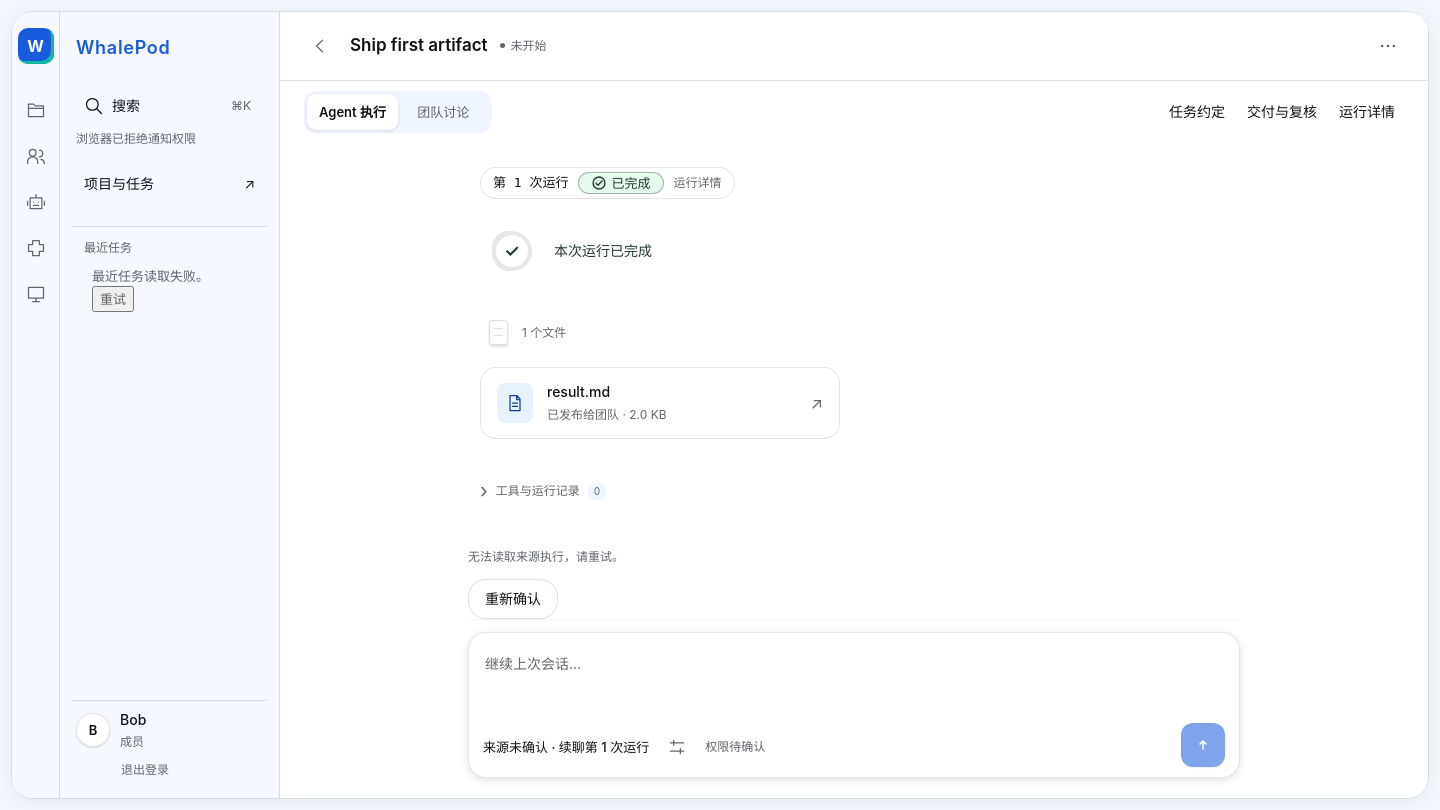
工作区 Micro 精修 › 交付物使用文件图标与独立状态层次，保留原详情入口
Click the button with aria-label "查看交付物 result.md" at coordinates (515, 403), box [480,367,840,439]
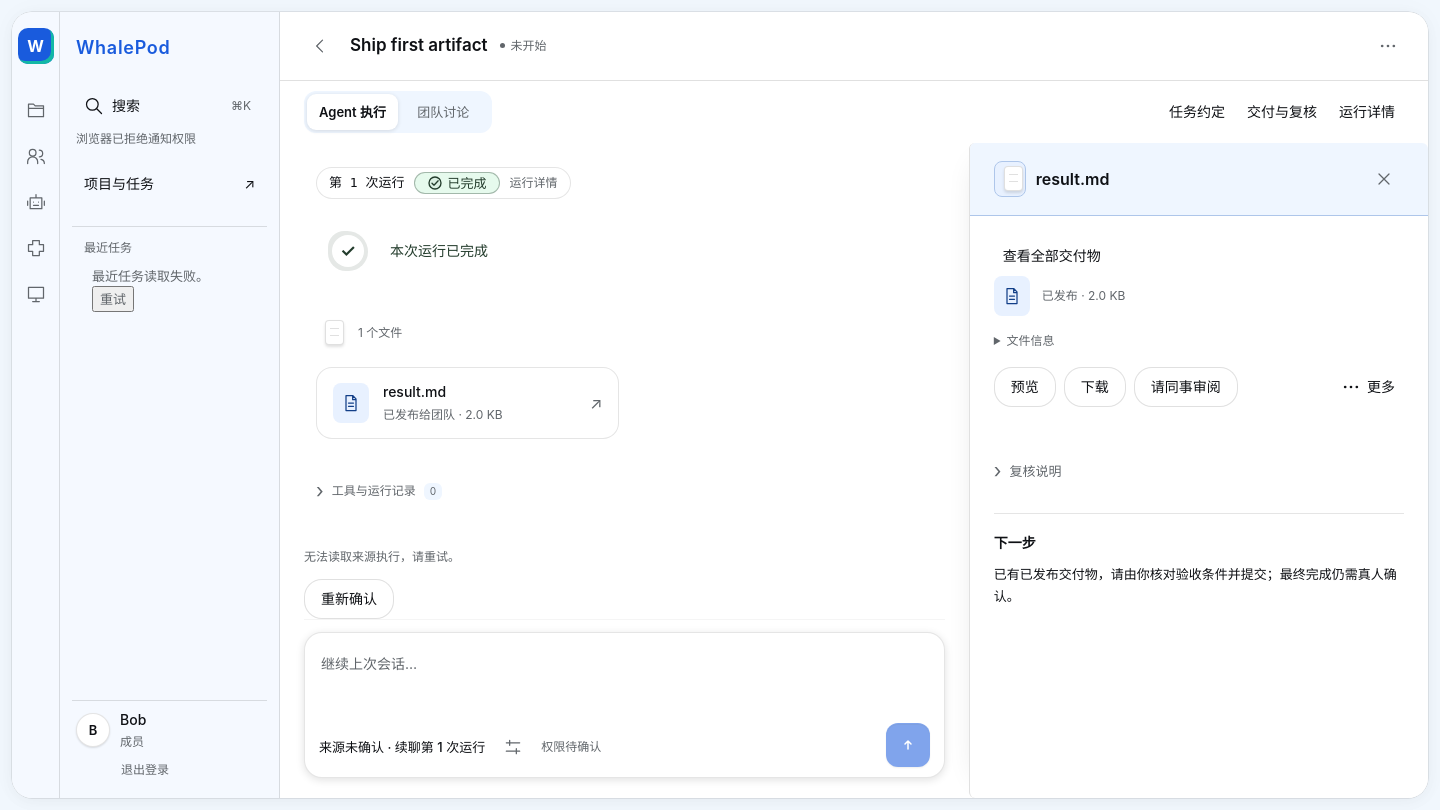
Now the element named "工作区详情" is shown, box [969,143,1428,798]
